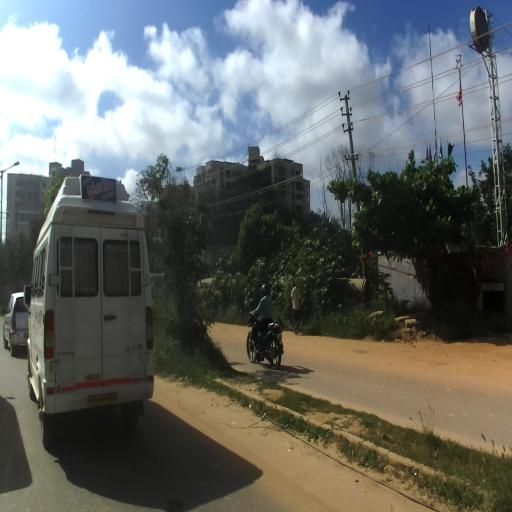street_light_0: (1, 161, 20, 177)
